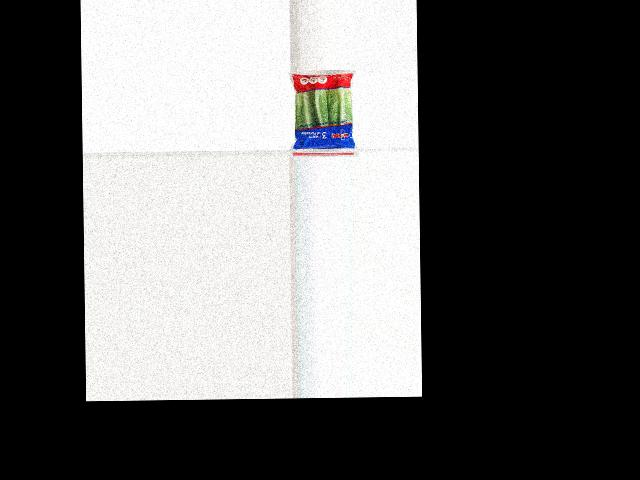lettuce: (291, 70, 358, 152)
